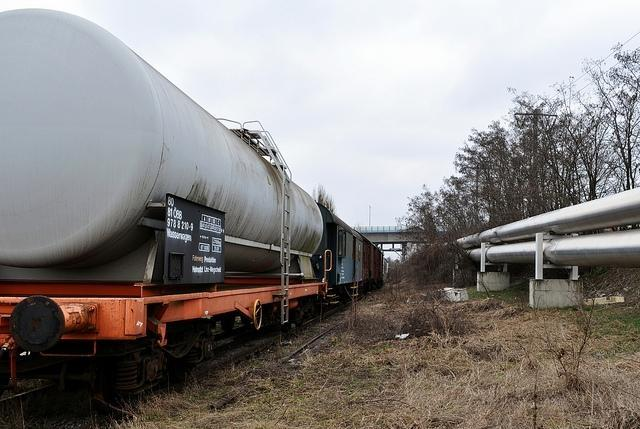truck: (409, 225, 424, 230)
